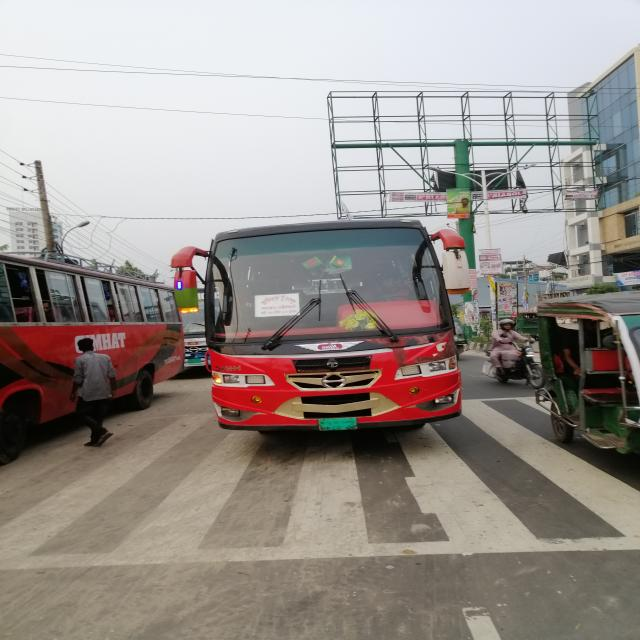Bus: (166, 216, 476, 438)
